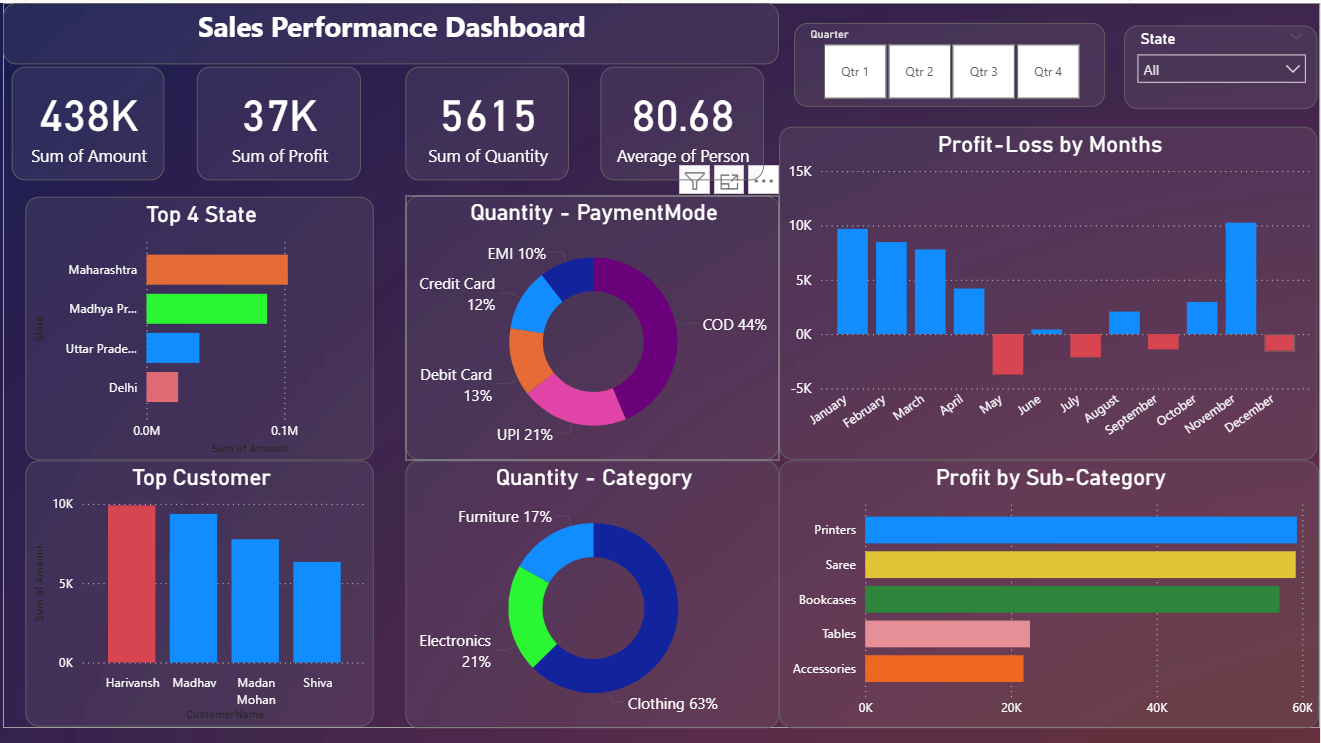

Layout of this report page (visuals, bound fields, positions):
{"tool":"powerbi","page":{"name":"Page 1","canvas":[1280,720],"ordinal":0},"visuals":[{"type":"textbox","box":[10.1,0,748.8,59.2],"z":0,"group":"g1"},{"type":"clusteredColumnChart","title":"Profit-Loss by Months","fields":{"Category":["Orders.Order Date.Variation.Date Hierarchy.Month"],"Y":["Sum(Details.Profit)"]},"box":[758.9,119.7,519.4,321.7],"z":1000,"group":"g1"},{"type":"barChart","title":"Profit by Sub-Category","fields":{"Category":["Details.Sub-Category"],"Y":["Sum(Details.Amount)"]},"box":[758.9,441.5,520.8,258.3],"z":2000,"group":"g1"},{"type":"group","id":"g1","title":"Group 1","box":[10.1,0,1269.6,699.7],"z":2011},{"type":"donutChart","title":"Quantity - Category","fields":{"Category":["Details.Category"],"Y":["Sum(Details.Quantity)"]},"box":[398.2,441.5,360.7,258.3],"z":3000,"group":"g1"},{"type":"donutChart","title":" Quantity - PaymentMode","fields":{"Category":["Details.PaymentMode"],"Y":["Sum(Details.Quantity)"]},"box":[398.2,186.1,360.7,255.4],"z":4000,"group":"g1"},{"type":"card","fields":{"Values":["Sum(Details.Amount)"]},"box":[18.8,62,147.2,109.6],"z":5000,"group":"g1"},{"type":"card","fields":{"Values":["Sum(Details.Profit)"]},"box":[197.7,62,158.7,109.6],"z":6000,"group":"g1"},{"type":"card","fields":{"Values":["Sum(Details.Quantity)"]},"box":[398.2,62,157.3,109.6],"z":7000,"group":"g1"},{"type":"card","fields":{"Values":["Avg(Details.AOV)"]},"box":[587.2,62,157.3,109.6],"z":8000,"group":"g1"},{"type":"clusteredBarChart","title":"Top 4 State","fields":{"Category":["Orders.State"],"Y":["Sum(Details.Amount)"]},"box":[32,186.9,336.4,254.5],"z":9000,"group":"g1"},{"type":"columnChart","title":"Top Customer","fields":{"Category":["Orders.CustomerName"],"Y":["Sum(Details.Amount)"]},"box":[32,442,336,257],"z":10000,"group":"g1"},{"type":"slicer","fields":{"Values":["Orders.Order Date.Variation.Date Hierarchy.Quarter"]},"box":[773.3,18.8,300.1,80.8],"z":11000,"group":"g1"},{"type":"slicer","fields":{"Values":["Orders.State"]},"box":[1092.2,21.6,186.1,80.8],"z":12000,"group":"g1"}]}

Visuals, with their boxes in screenshot pixels (x1, y1, x2, y2), scaled from the page's 1280x720 canvas onto the 1321x743 screenshot:
textbox: Rect(10, 0, 783, 61)
"Profit-Loss by Months" clusteredColumnChart: Rect(783, 124, 1319, 456)
"Profit by Sub-Category" barChart: Rect(783, 456, 1320, 722)
"Group 1" group: Rect(10, 0, 1320, 722)
"Quantity - Category" donutChart: Rect(411, 456, 783, 722)
" Quantity - PaymentMode" donutChart: Rect(411, 192, 783, 456)
card - Sum(Details.Amount): Rect(19, 64, 171, 177)
card - Sum(Details.Profit): Rect(204, 64, 368, 177)
card - Sum(Details.Quantity): Rect(411, 64, 573, 177)
card - Avg(Details.AOV): Rect(606, 64, 768, 177)
"Top 4 State" clusteredBarChart: Rect(33, 193, 380, 456)
"Top Customer" columnChart: Rect(33, 456, 380, 721)
slicer - Orders.Order Date.Variation.Date Hierarchy.Quarter: Rect(798, 19, 1108, 103)
slicer - Orders.State: Rect(1127, 22, 1319, 106)
